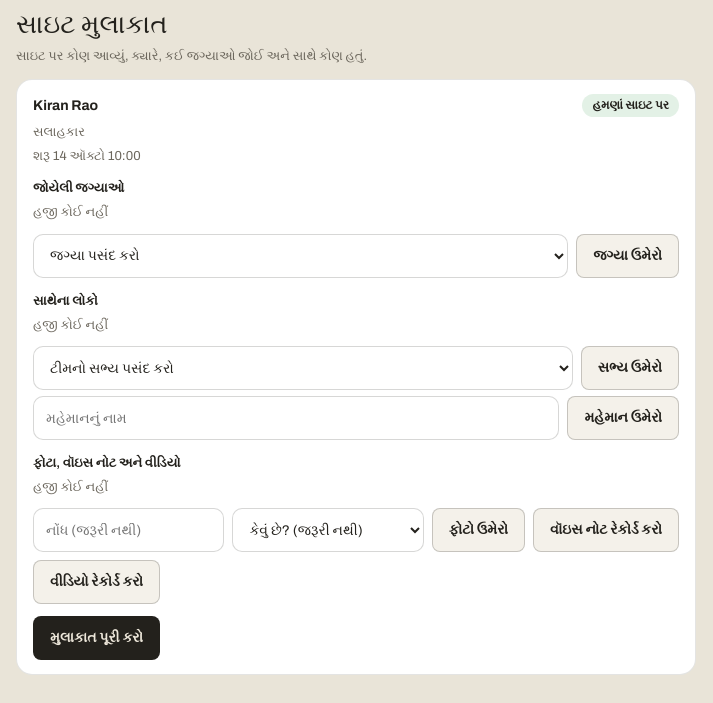
Test: #995 V2b: video clips on a visit › says how to allow the camera when it was refused, in the person’s language
The image size is (713, 703).
Click the button "વીડિયો રેકોર્ડ કરો". click: (97, 582)
box: [33,560,160,604]
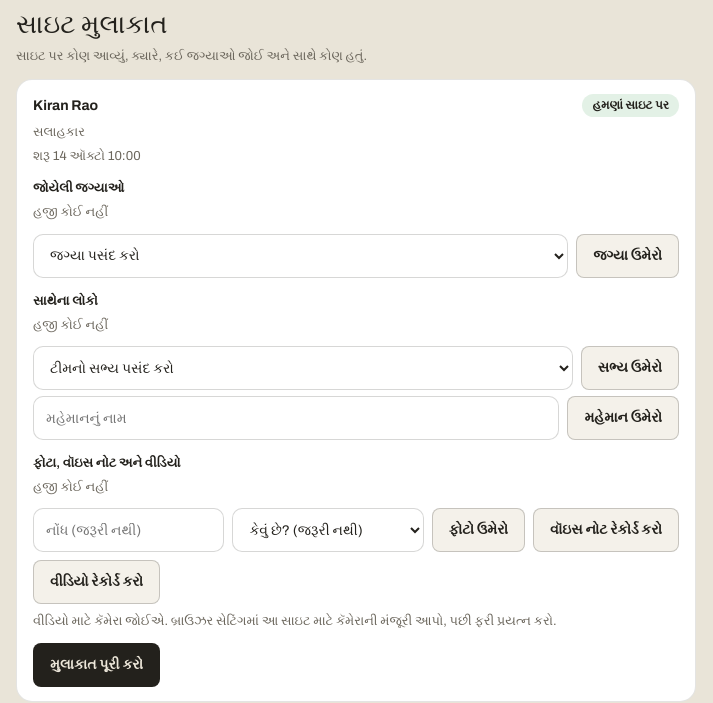
Expected: the message shows "વીડિયો માટે કૅમેરા જોઈએ. બ્રાઉઝર સેટિંગમાં આ સાઇટ માટે કૅમેરાની મંજૂરી આપો, પછી ફરી પ્રયત્ન કરો.", [33,614,556,628]
